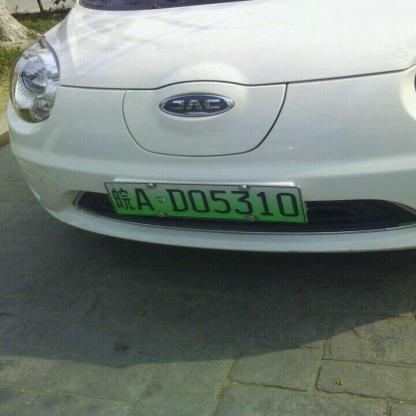lp: (102, 182, 308, 221)
